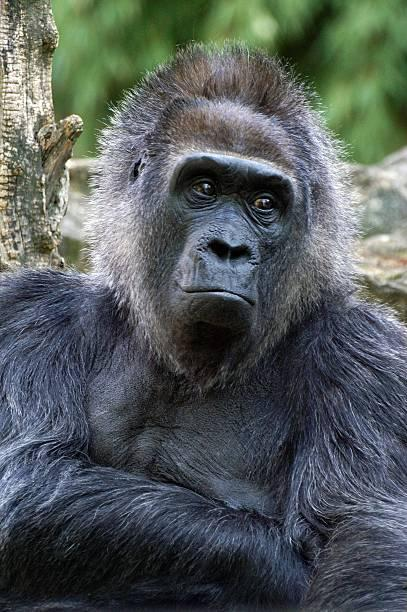gorille_Autres: (0, 44, 407, 612)
